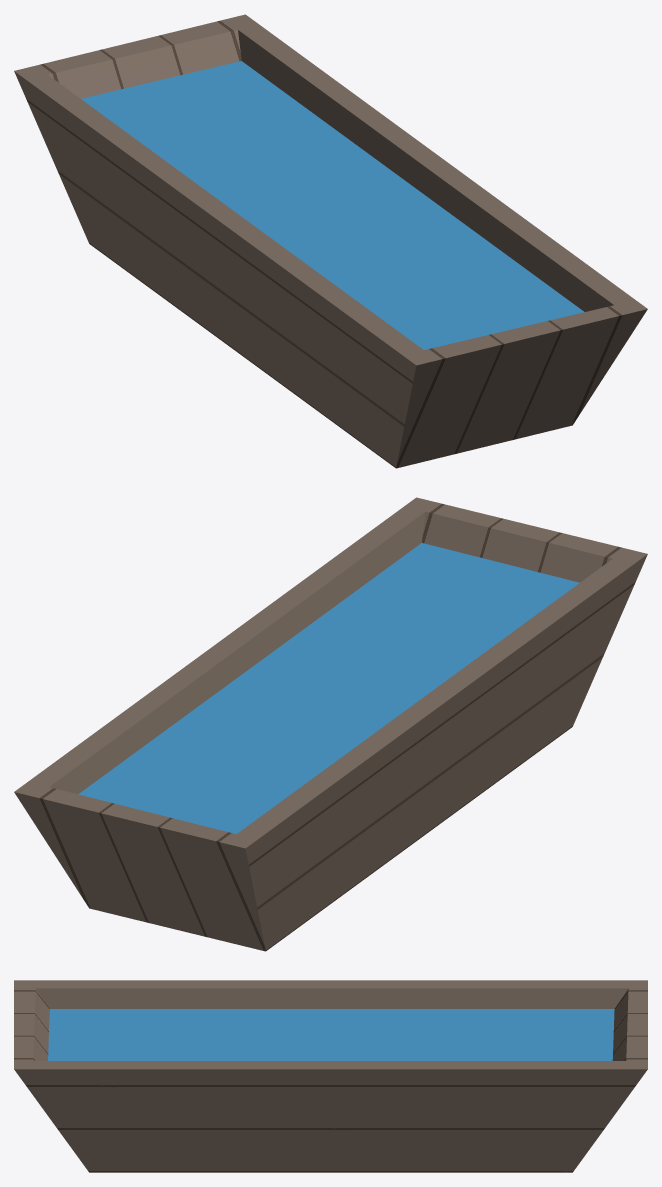
The model's file is water_bowl.glb.
3 views of the same model, one above another, from view 1: azimuth 30°, elevation 25°; view 2: azimuth 150°, elevation 25°; view 3: azimuth 270°, elevation 25° (orthographic). The views are drawn at different scales.
Visible parts, largest first — view 1: Object_3, Object_2; view 2: Object_3, Object_2; view 3: Object_3, Object_2.
Part boxes in pixels (<box>): Object_3: <box>14,14,647,468</box>; Object_2: <box>81,61,584,349</box>; Object_3: <box>14,497,647,951</box>; Object_2: <box>78,543,579,833</box>; Object_3: <box>14,980,647,1172</box>; Object_2: <box>48,1009,614,1060</box>.
Size of the model in its own units: 0.759 by 0.4534 by 2.28.
Materials: 2 (2 with a texture image).
